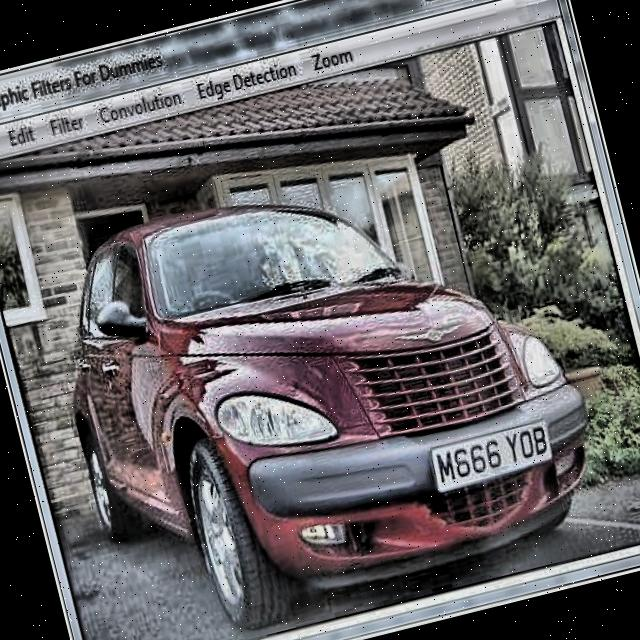license_plate: (425, 416, 558, 491)
